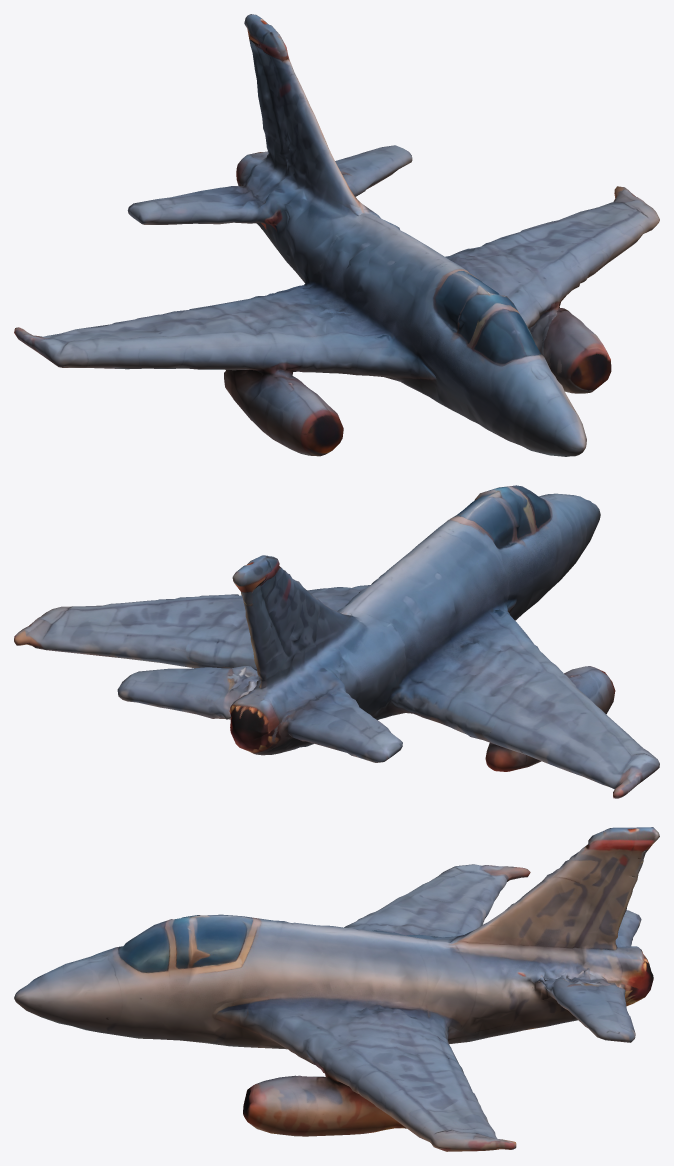
The model's file is Battle_plane_fighting_0725070007_refine.fbx.
3 views of the same model, one above another, from view 1: azimuth 30°, elevation 25°; view 2: azimuth 150°, elevation 25°; view 3: azimuth 270°, elevation 25° (orthographic). The views are drawn at different scales.
Parts seen in each view (by area): view 1: Mesh_0; view 2: Mesh_0; view 3: Mesh_0.
Part boxes in pixels (x1=…): Mesh_0: x1=14, y1=14, x2=659, y2=456; Mesh_0: x1=14, y1=485, x2=659, y2=798; Mesh_0: x1=14, y1=827, x2=659, y2=1151.
Bounding box in the file's own units: 120 × 50.43 × 118.
Materials: 1 (1 with a texture image).
